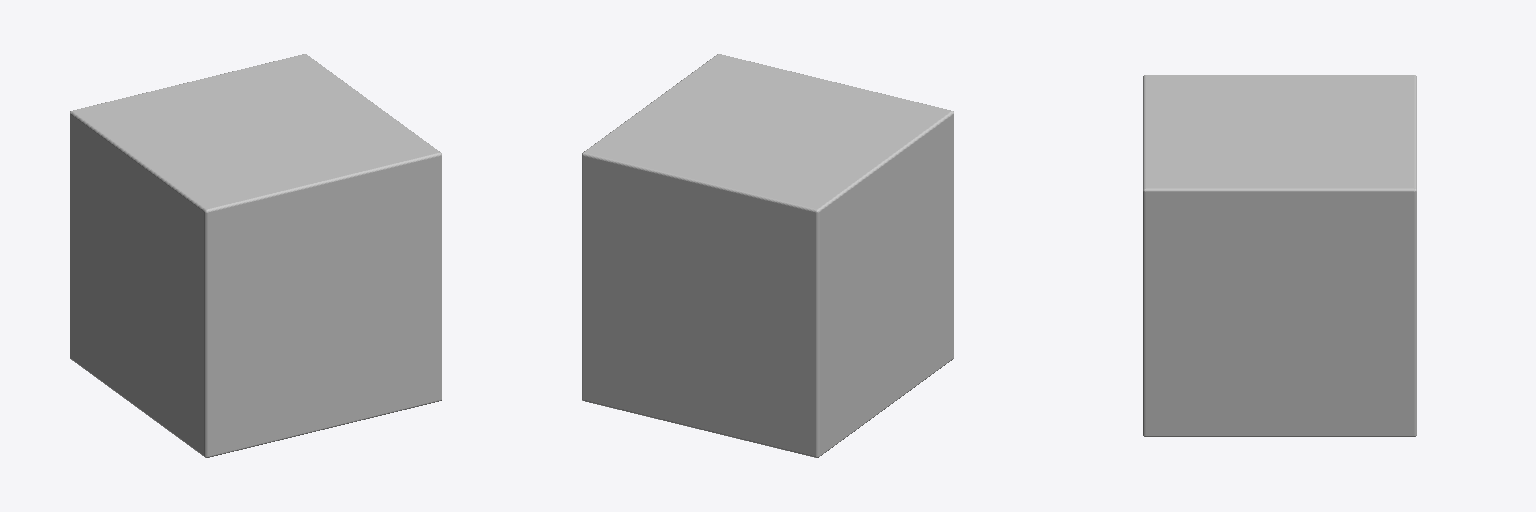
File: white_obstacle2.obj
3 renders of one model, left to right at view 1: azimuth 30°, elevation 25°; view 2: azimuth 150°, elevation 25°; view 3: azimuth 270°, elevation 25°, orthographic.
Parts seen in each view (by area): view 1: Body1; view 2: Body1; view 3: Body1.
Part boxes in pixels (bbox=[...]): Body1: bbox=[70, 54, 441, 457]; Body1: bbox=[582, 54, 953, 457]; Body1: bbox=[1143, 75, 1416, 436].
Bounding box in the file's own units: 100 × 100 × 100.